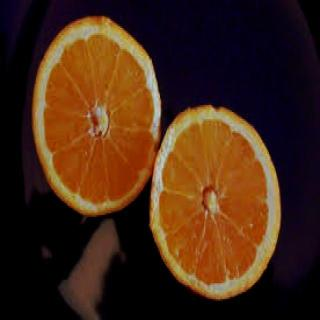orange: (22, 2, 168, 221), (146, 89, 286, 309)
